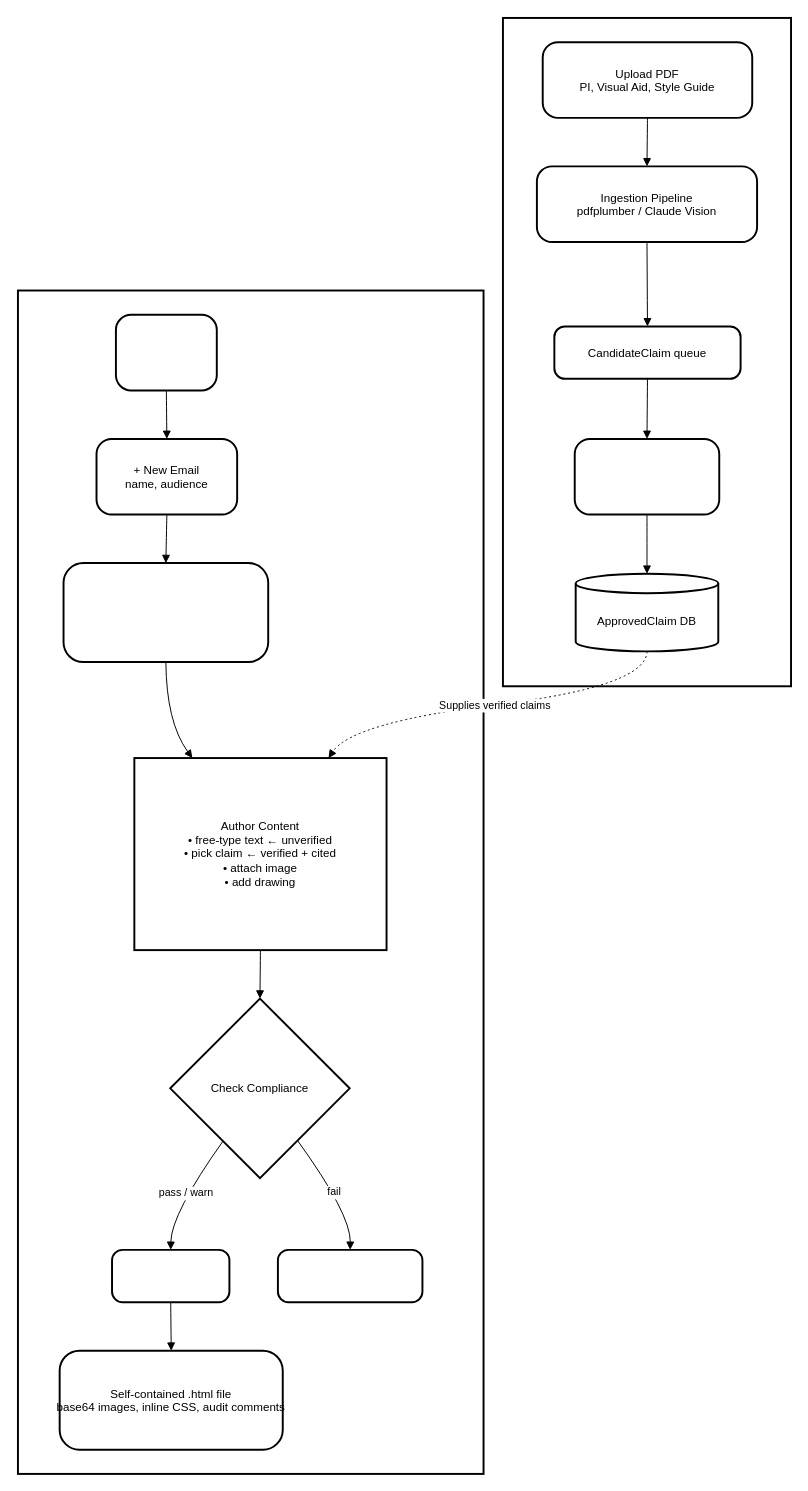
The diagram is 808 pixels wide and 1491 high, and some of its shapes have lost their labels. Each missing label, with the centre of its shape:
blocked, fix first: point (349, 1275)
Canvas locked blocks auto-inject header, ISI, footer: point (165, 612)
Dashboard email grid: point (165, 352)
Export HTML: point (170, 1275)
Human Review approve / reject: point (646, 476)
